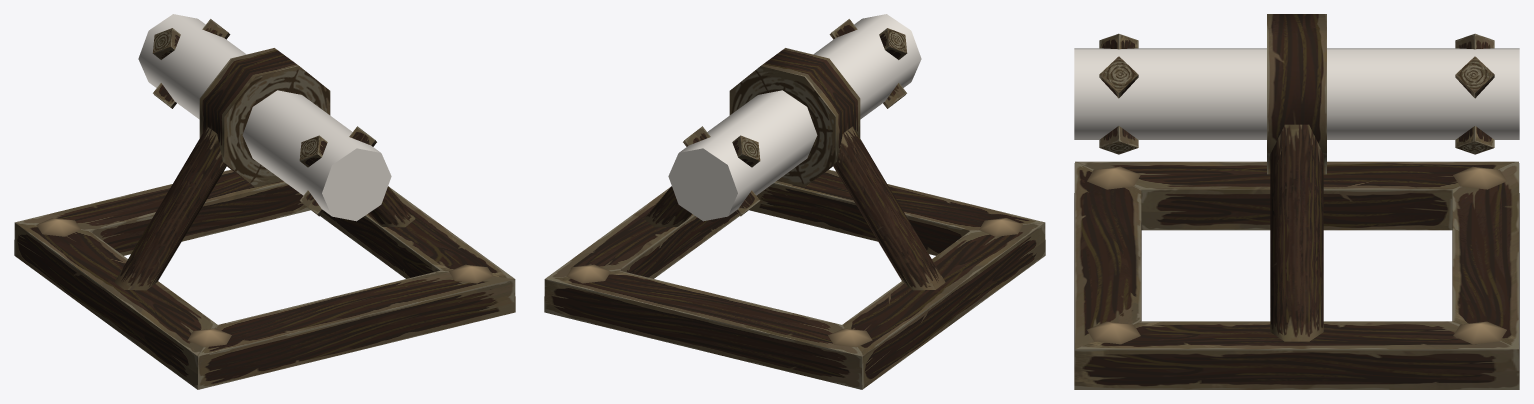
File: PowerShaftStraight.Folktails.Model.fbx
3 renders of one model, left to right at view 1: azimuth 30°, elevation 25°; view 2: azimuth 150°, elevation 25°; view 3: azimuth 270°, elevation 25°, orthographic. The views are drawn at different scales.
Visible parts, largest first — view 1: PowerShaftStraight_Folktails, _3R_003Animated; view 2: PowerShaftStraight_Folktails, _3R_003Animated; view 3: PowerShaftStraight_Folktails, _3R_003Animated.
Part boxes in pixels (<box>): PowerShaftStraight_Folktails: <box>14,48,515,389</box>; _3R_003Animated: <box>138,14,391,221</box>; PowerShaftStraight_Folktails: <box>544,48,1045,389</box>; _3R_003Animated: <box>668,14,921,221</box>; PowerShaftStraight_Folktails: <box>1074,14,1519,389</box>; _3R_003Animated: <box>1074,33,1519,154</box>.
Bounding box in the file's own units: 100 × 66.66 × 100.
